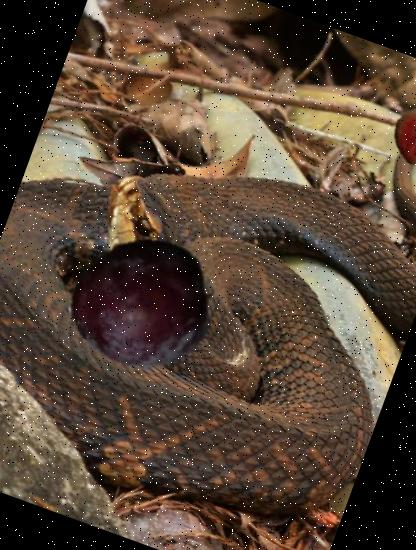Peach: (383, 102, 416, 172)
Plum: (48, 211, 233, 396)
